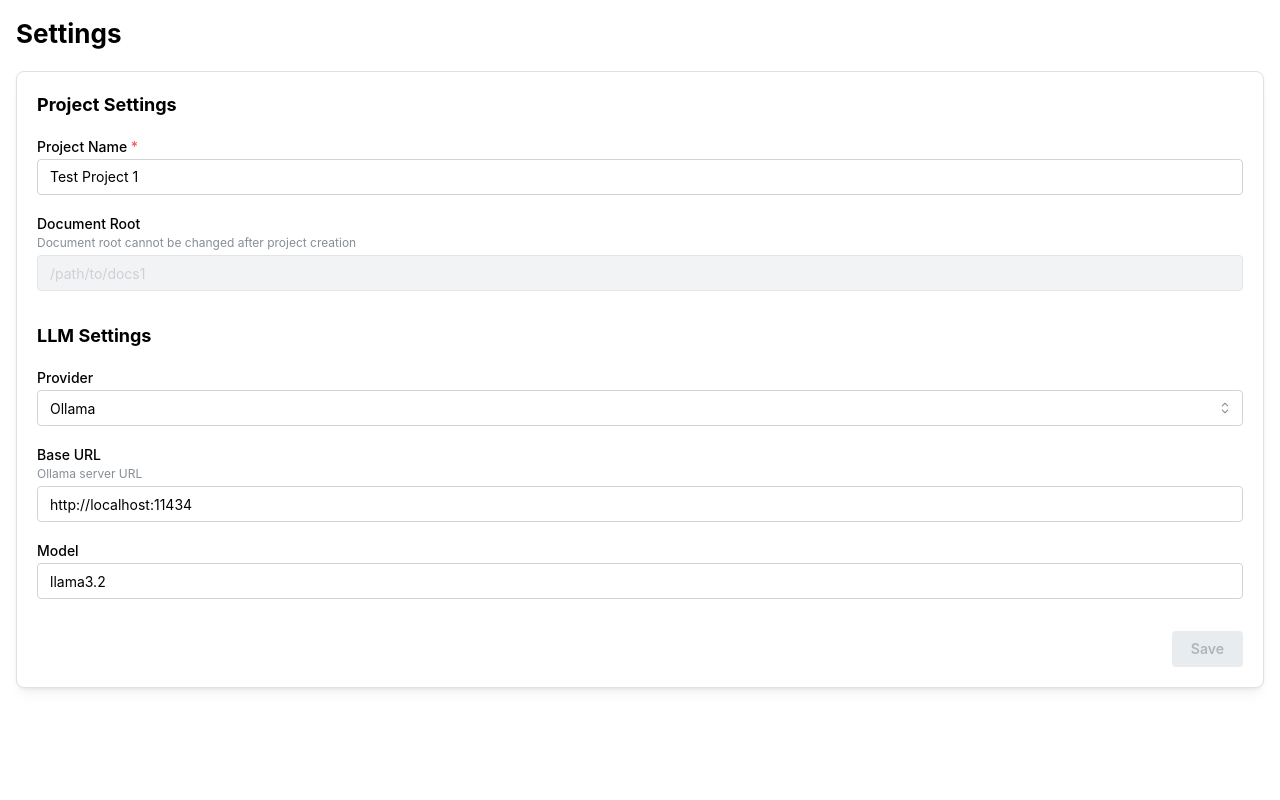
Test: SettingsPage › shows validation error for empty name
// Clear the name field
Clear the field labelled "Project Name *" at (640, 177), box [37,159,1243,195]
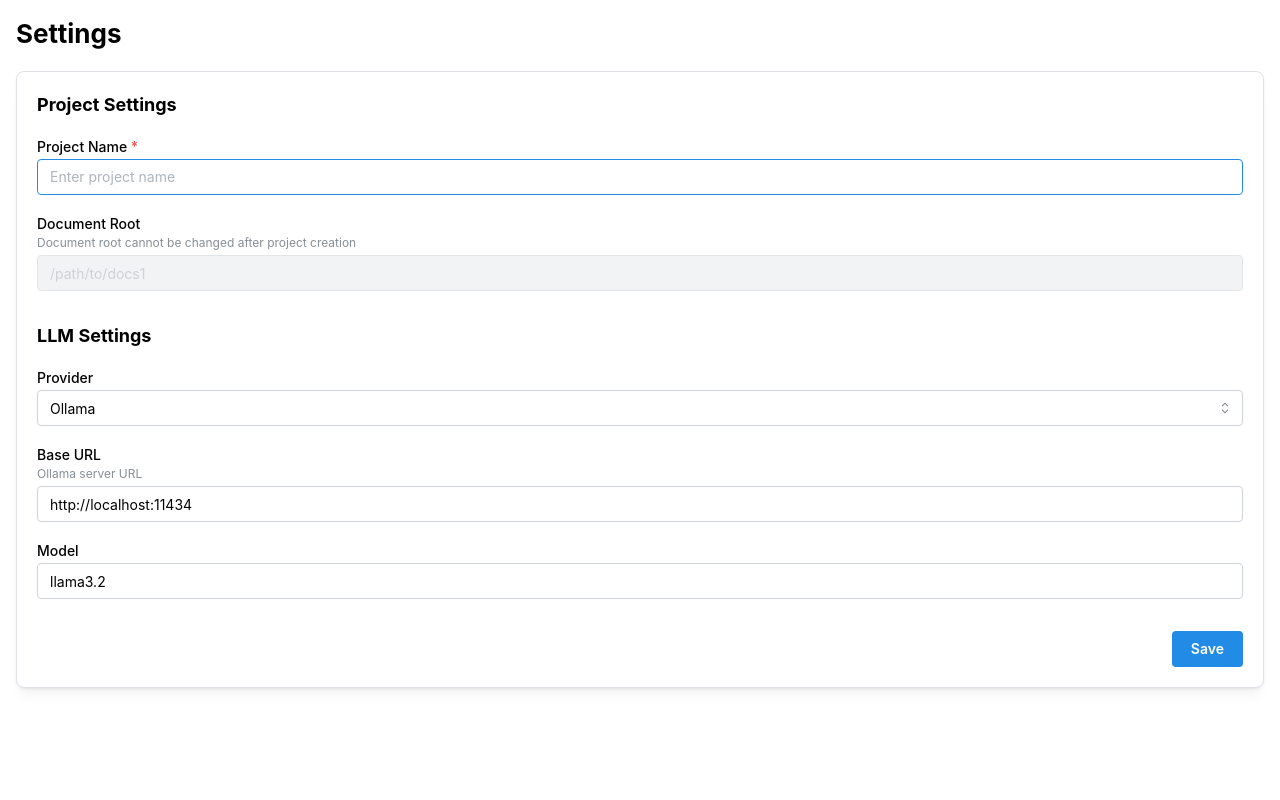
// Click save button
Click the button "Save" at (1207, 649), box [1172,631,1243,667]
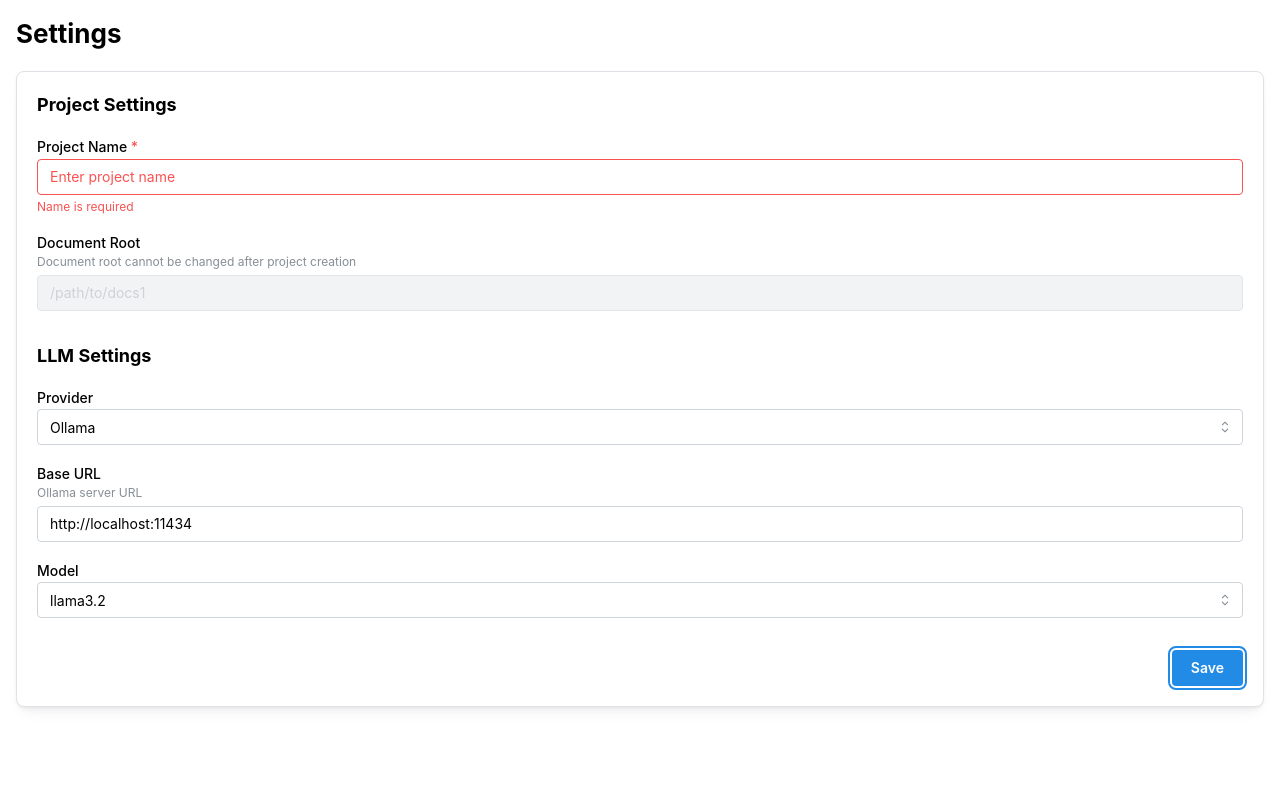
Expected: the text "Name is required" is shown, [37,199,134,214]
